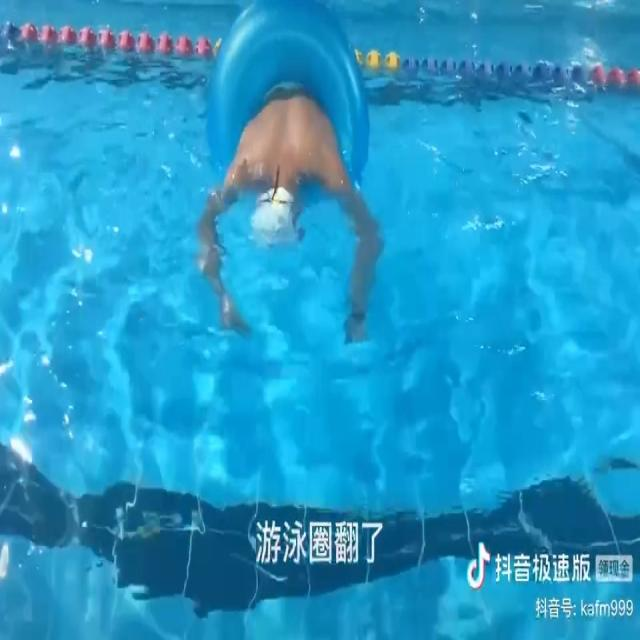Drowning: (196, 90, 388, 348)
